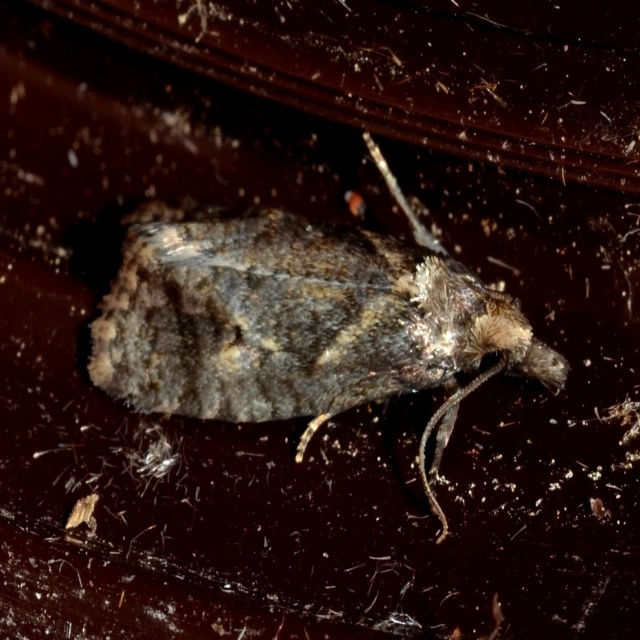Moths and butterflies: (84, 132, 571, 546)
